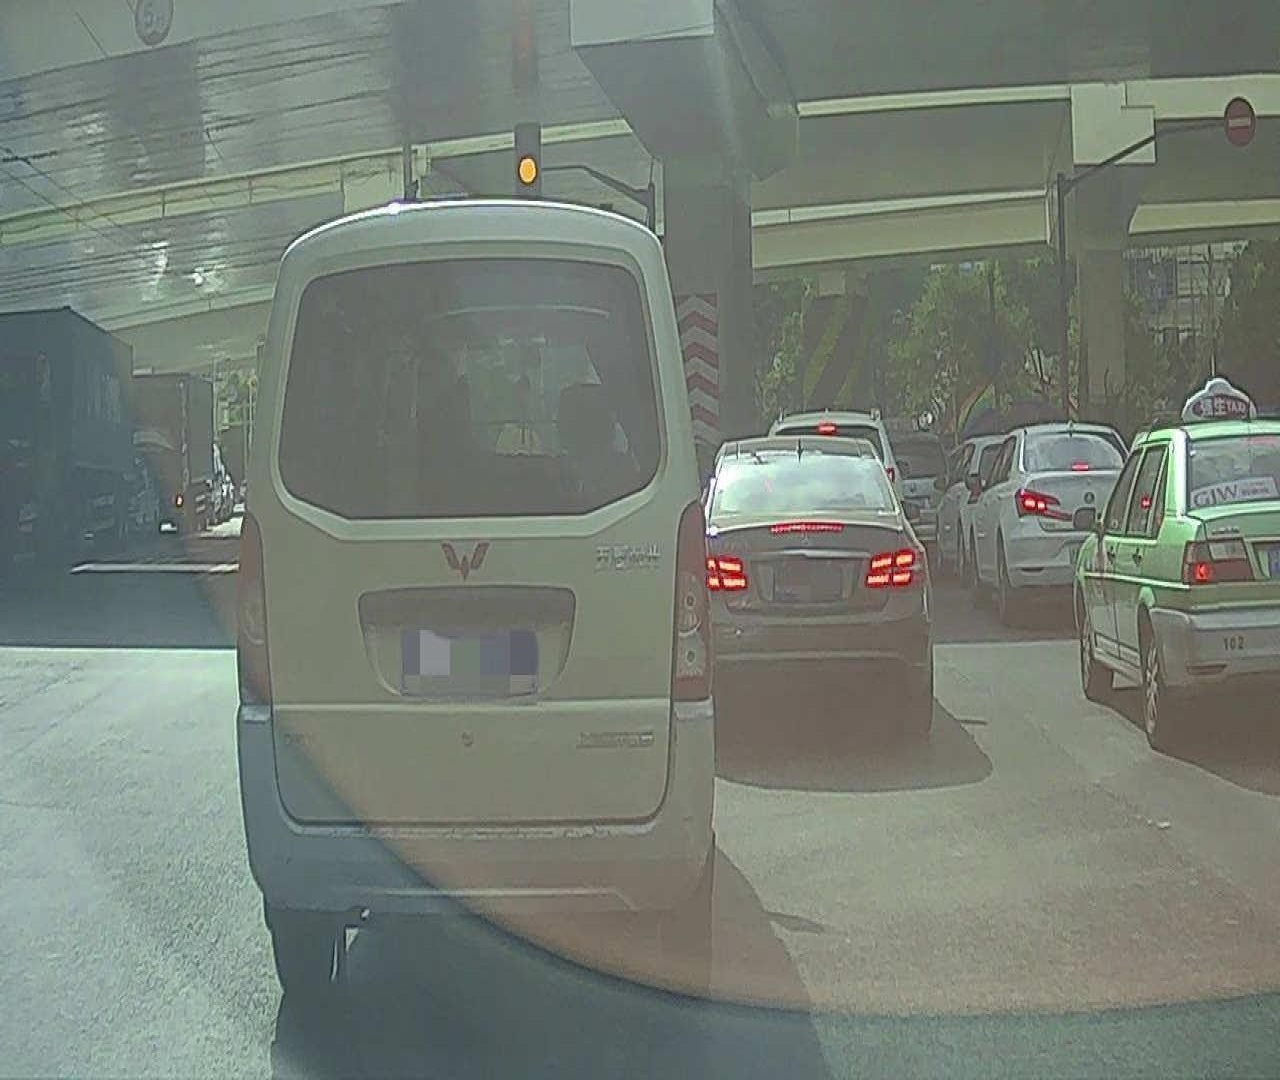yellow: (515, 123, 541, 198)
